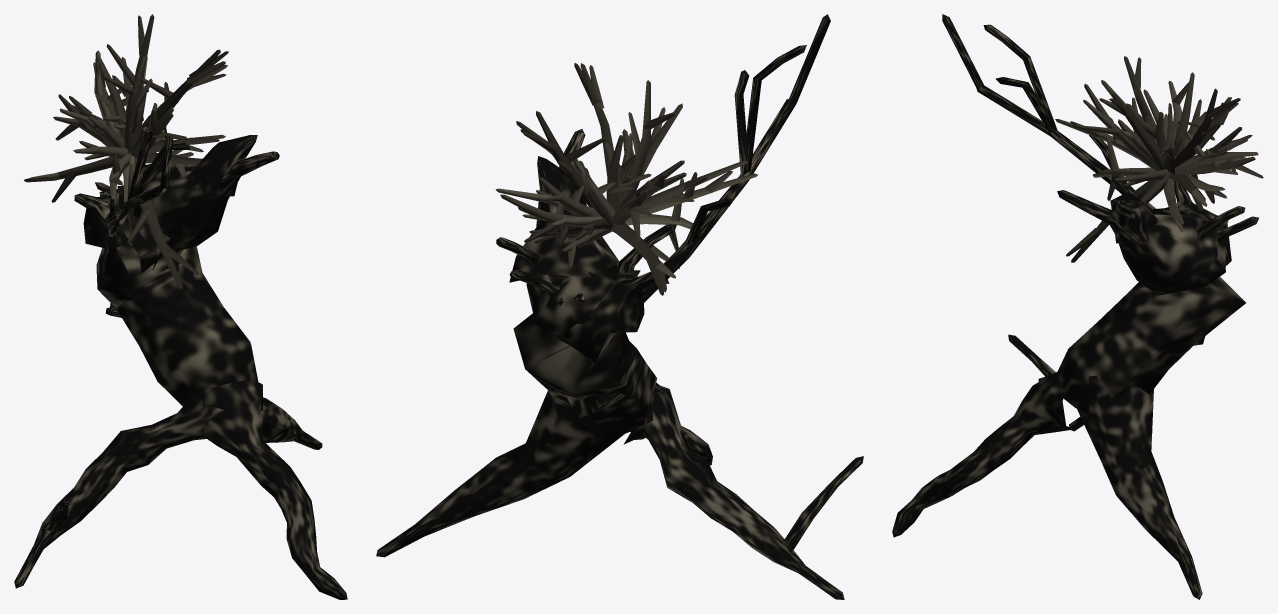
Rendered from VerTreeDead09.glb.
3 renders of one model, left to right at view 1: azimuth 30°, elevation 25°; view 2: azimuth 150°, elevation 25°; view 3: azimuth 270°, elevation 25°, orthographic. The views are drawn at different scales.
Parts seen in each view (by area): view 1: VerTreeDead09_limbs; view 2: VerTreeDead09_limbs; view 3: VerTreeDead09_limbs.
Boxes of the visible parts, x1,y1,x2,y2 form: VerTreeDead09_limbs: (14, 14, 347, 599); VerTreeDead09_limbs: (376, 14, 863, 599); VerTreeDead09_limbs: (892, 14, 1263, 599).
Size of the model in its own units: 3.79 by 4.68 by 3.48.
2 materials, 1 textured.
